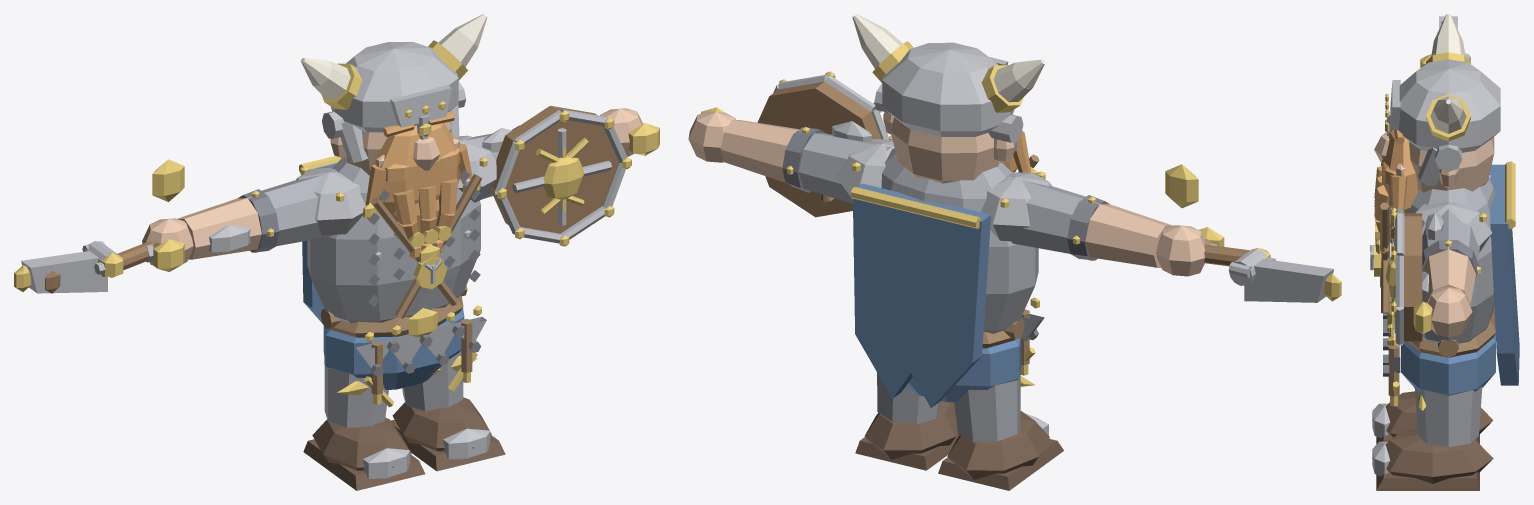
Rendered from krasnolud-wojownik.glb.
The picture shows the model from 3 angles, left to right: view 1: azimuth 30°, elevation 25°; view 2: azimuth 150°, elevation 25°; view 3: azimuth 270°, elevation 25°; orthographic projection. The views are drawn at different scales.
Visible parts, largest first — view 1: Mail_Torso, Shield, Helmet_Cap, Tunic_Skirt, Beard_Main, Boot_R, Boot_L, UpperArm_R, Forearm_R, Pauldron_R, Leg_R, Axe_Blade (+27 smaller); view 2: War_Cape, Helmet_Cap, Mail_Torso, Shield, Head, Forearm_R, Boot_R, Leg_R, Forearm_L, UpperArm_R, Boot_L, Axe_Blade (+17 smaller); view 3: Helmet_Cap, War_Cape, Boot_L, Tunic_Skirt, Mail_Torso, Leg_L, Shield, Head, Forearm_L, Hand_L, Boot_Sole_L, Beard_Main (+34 smaller).
Boxes of the visible parts, x1=… form: Mail_Torso: x1=307, y1=157, x2=480, y2=323; Shield: x1=491, y1=105, x2=618, y2=233; Helmet_Cap: x1=330, y1=42, x2=458, y2=132; Tunic_Skirt: x1=323, y1=308, x2=464, y2=389; Beard_Main: x1=373, y1=123, x2=459, y2=221; Boot_R: x1=312, y1=417, x2=411, y2=470; Boot_L: x1=392, y1=397, x2=491, y2=451; UpperArm_R: x1=261, y1=171, x2=337, y2=246; Forearm_R: x1=177, y1=196, x2=261, y2=259; Pauldron_R: x1=296, y1=168, x2=365, y2=235; Leg_R: x1=324, y1=357, x2=388, y2=427; Axe_Blade: x1=21, y1=251, x2=107, y2=293; War_Cape: x1=853, y1=183, x2=990, y2=407; Helmet_Cap: x1=882, y1=42, x2=1014, y2=136; Mail_Torso: x1=881, y1=148, x2=1038, y2=333; Shield: x1=757, y1=81, x2=881, y2=217; Head: x1=890, y1=117, x2=999, y2=183; Forearm_R: x1=1085, y1=203, x2=1172, y2=267; Boot_R: x1=947, y1=411, x2=1049, y2=479; Leg_R: x1=954, y1=371, x2=1020, y2=441; Forearm_L: x1=720, y1=120, x2=801, y2=182; UpperArm_R: x1=1006, y1=176, x2=1085, y2=253; Boot_L: x1=864, y1=401, x2=957, y2=459; Axe_Blade: x1=1244, y1=259, x2=1333, y2=302; Helmet_Cap: x1=1398, y1=59, x2=1500, y2=152; War_Cape: x1=1490, y1=164, x2=1519, y2=385; Boot_L: x1=1372, y1=429, x2=1493, y2=483; Tunic_Skirt: x1=1401, y1=334, x2=1495, y2=395; Mail_Torso: x1=1393, y1=176, x2=1495, y2=343; Leg_L: x1=1414, y1=386, x2=1482, y2=446; Shield: x1=1404, y1=213, x2=1422, y2=341; Head: x1=1409, y1=137, x2=1494, y2=192; Forearm_L: x1=1422, y1=246, x2=1476, y2=304; Hand_L: x1=1428, y1=287, x2=1472, y2=336; Boot_Sole_L: x1=1376, y1=472, x2=1479, y2=490; Beard_Main: x1=1382, y1=130, x2=1418, y2=213.
Size of the model in its own units: 6.78 by 4.3 by 1.43.
